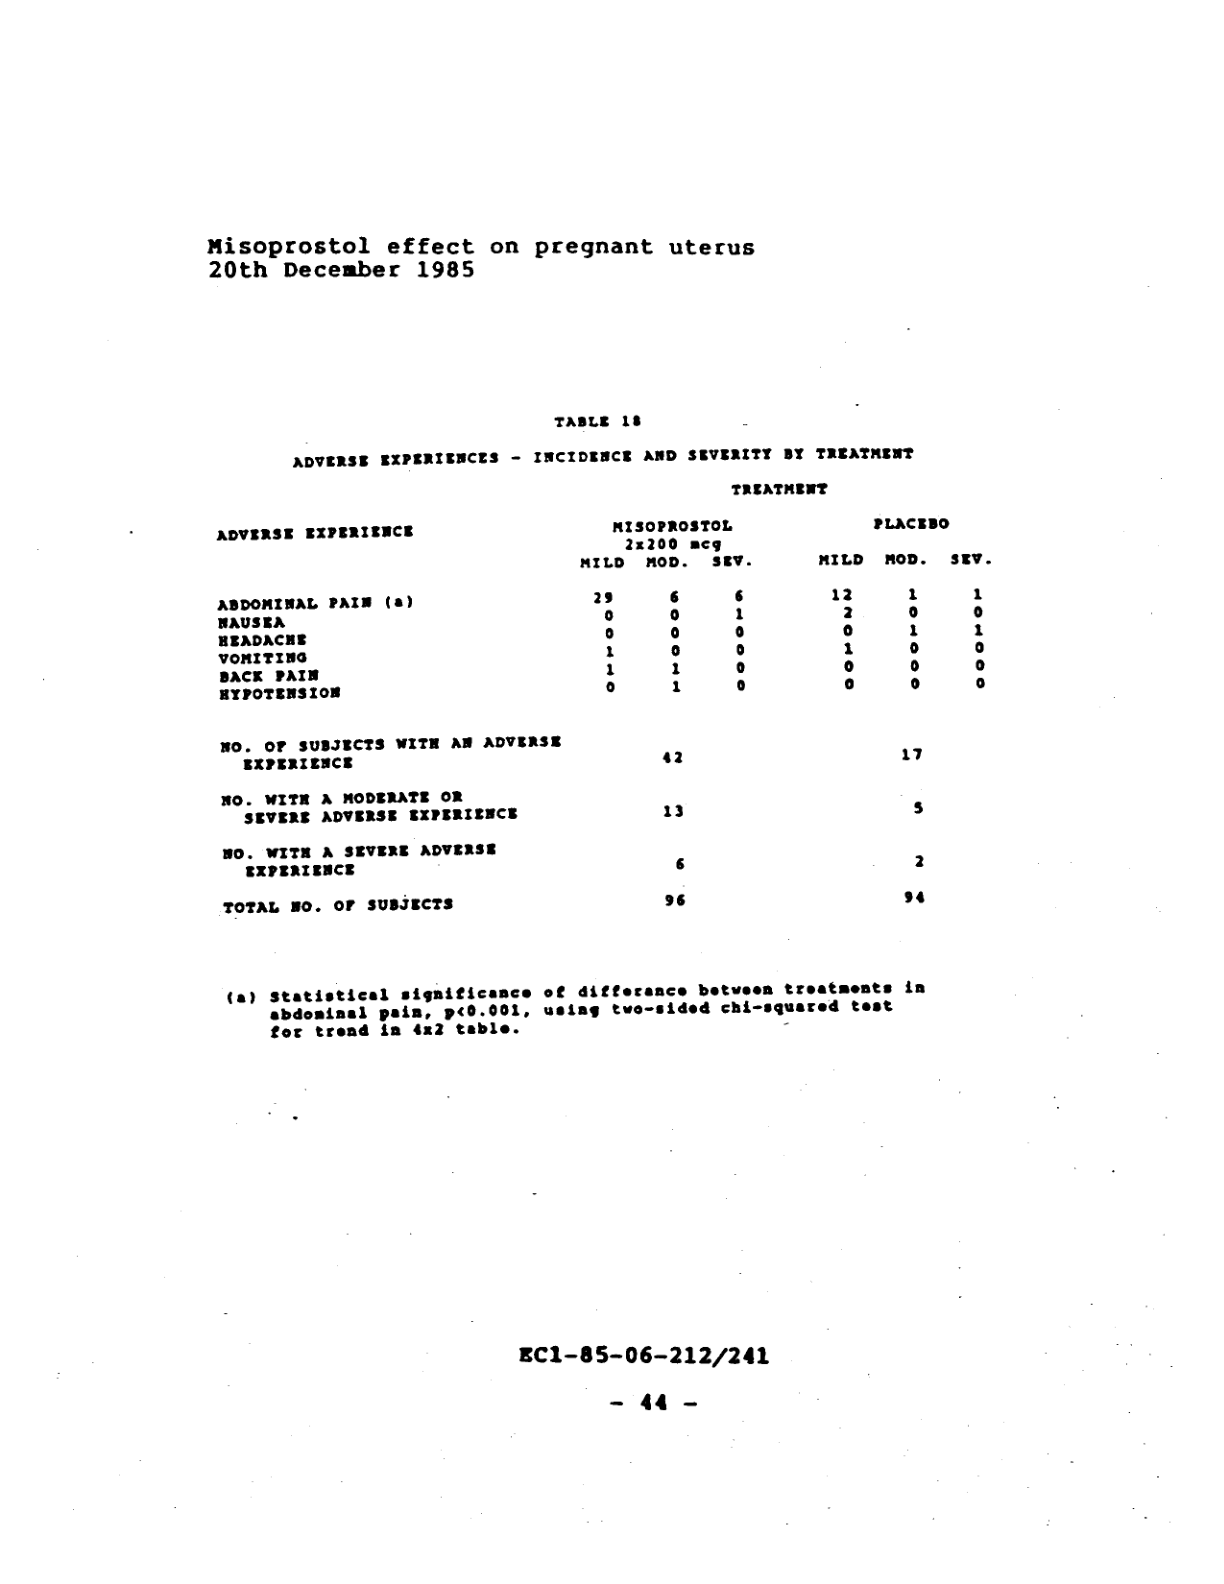nolines: (215, 513, 987, 913)
